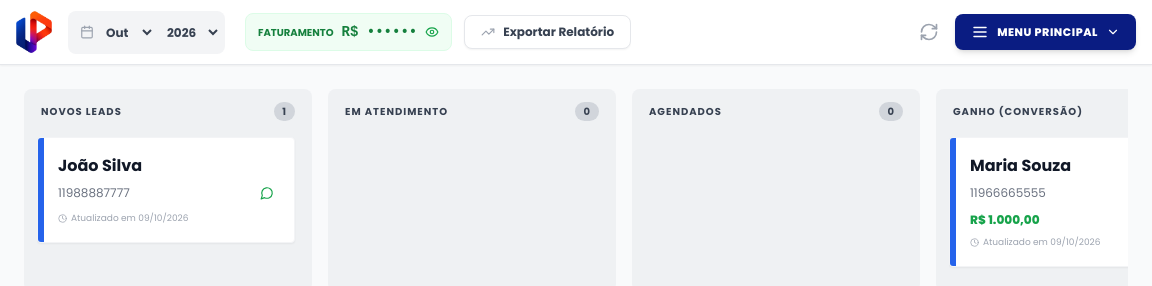
KanbanPage › deve desmascarar o faturamento ao clicar no olho
Expected: the text "R$ ••••••" is shown, [342, 22, 417, 42]
Click the 1st button. click: (432, 32)
box: [425, 25, 439, 39]
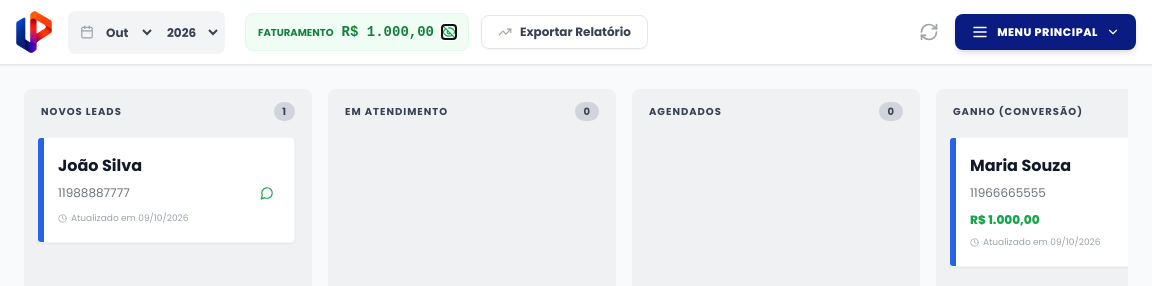
Expected: the text "R$ 1.000,00" next to "Faturamento" is shown, [342, 24, 434, 40]
